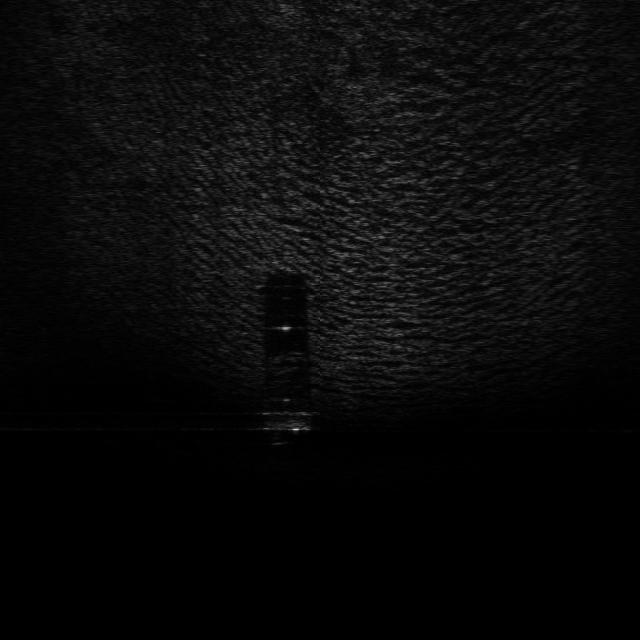cube: (260, 409, 316, 434)
